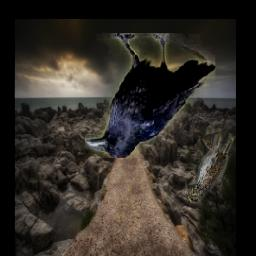Crow: (86, 33, 216, 158)
Sparrow: (186, 134, 235, 205)
